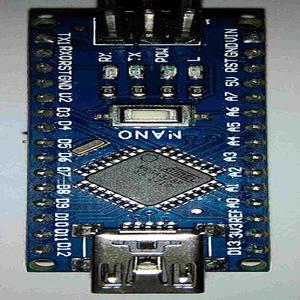duino: (25, 0, 274, 300)
